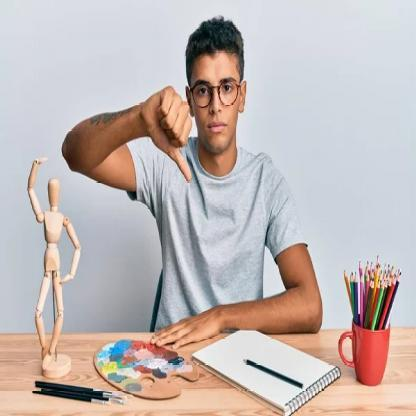thumb_down: (140, 78, 198, 192)
